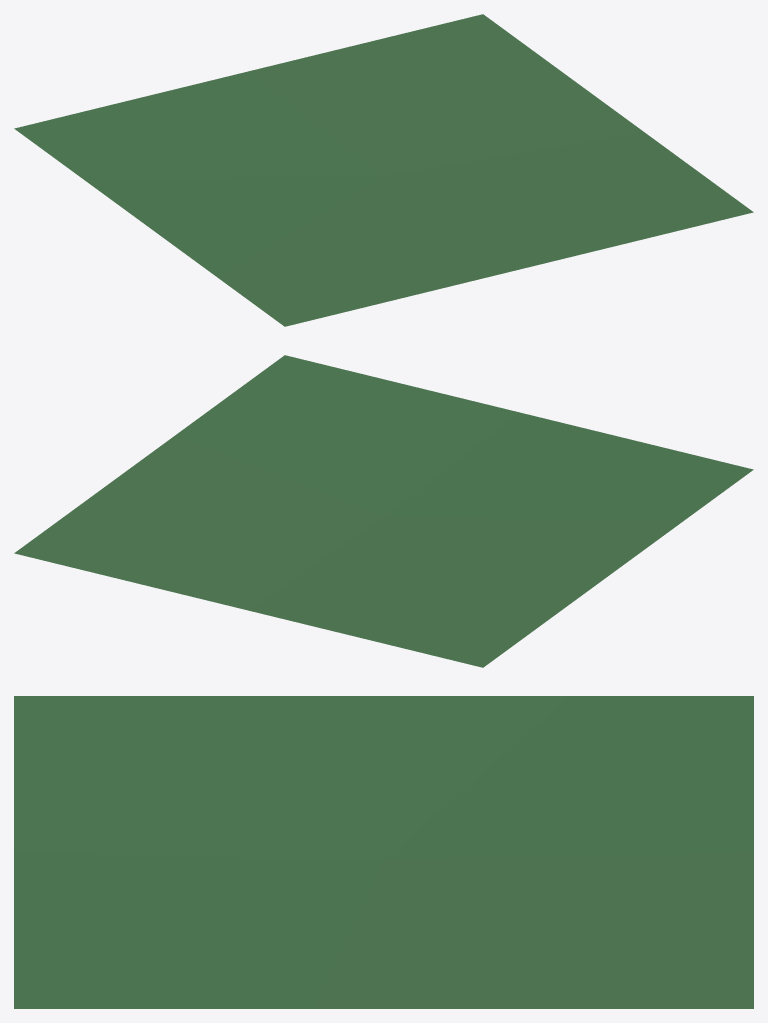
The model's file is Grass_Mid.fbx.
3 views of the same model, one above another, from view 1: azimuth 30°, elevation 25°; view 2: azimuth 150°, elevation 25°; view 3: azimuth 270°, elevation 25° (orthographic). The views are drawn at different scales.
Visible parts, largest first — view 1: Grass_Mid; view 2: Grass_Mid; view 3: Grass_Mid.
Boxes of the visible parts, bbox=[...] form: Grass_Mid: bbox=[14, 14, 753, 326]; Grass_Mid: bbox=[14, 355, 753, 667]; Grass_Mid: bbox=[14, 696, 753, 1008].
Size of the model in its own units: 1 by 0.0115 by 1.
